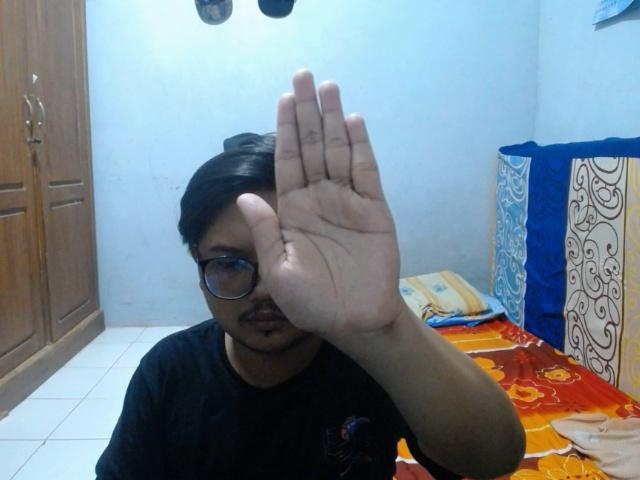Release: (226, 60, 407, 344)
